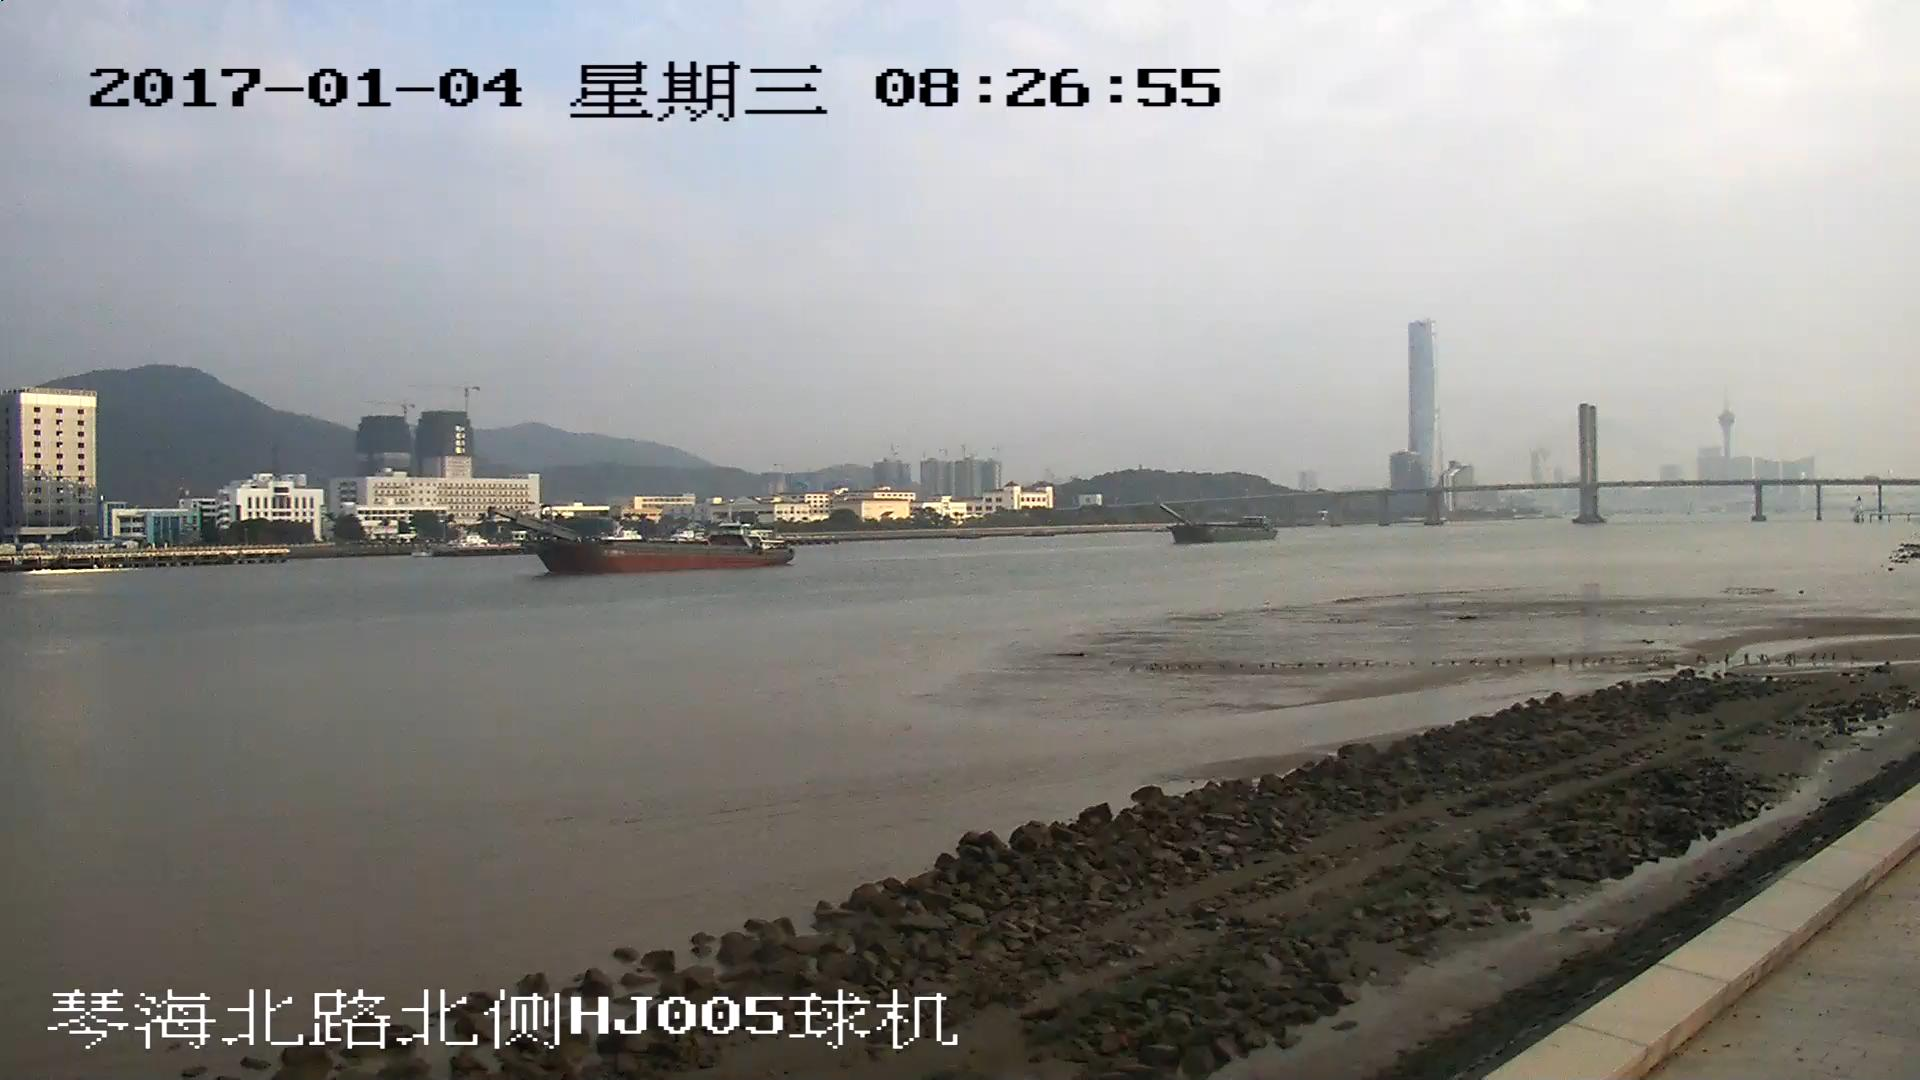bulk cargo carrier: (487, 503, 791, 568), (1159, 503, 1274, 538)
